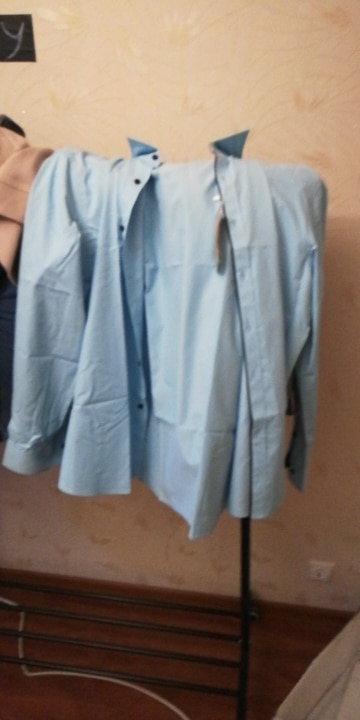shirts: (26, 138, 326, 525)
